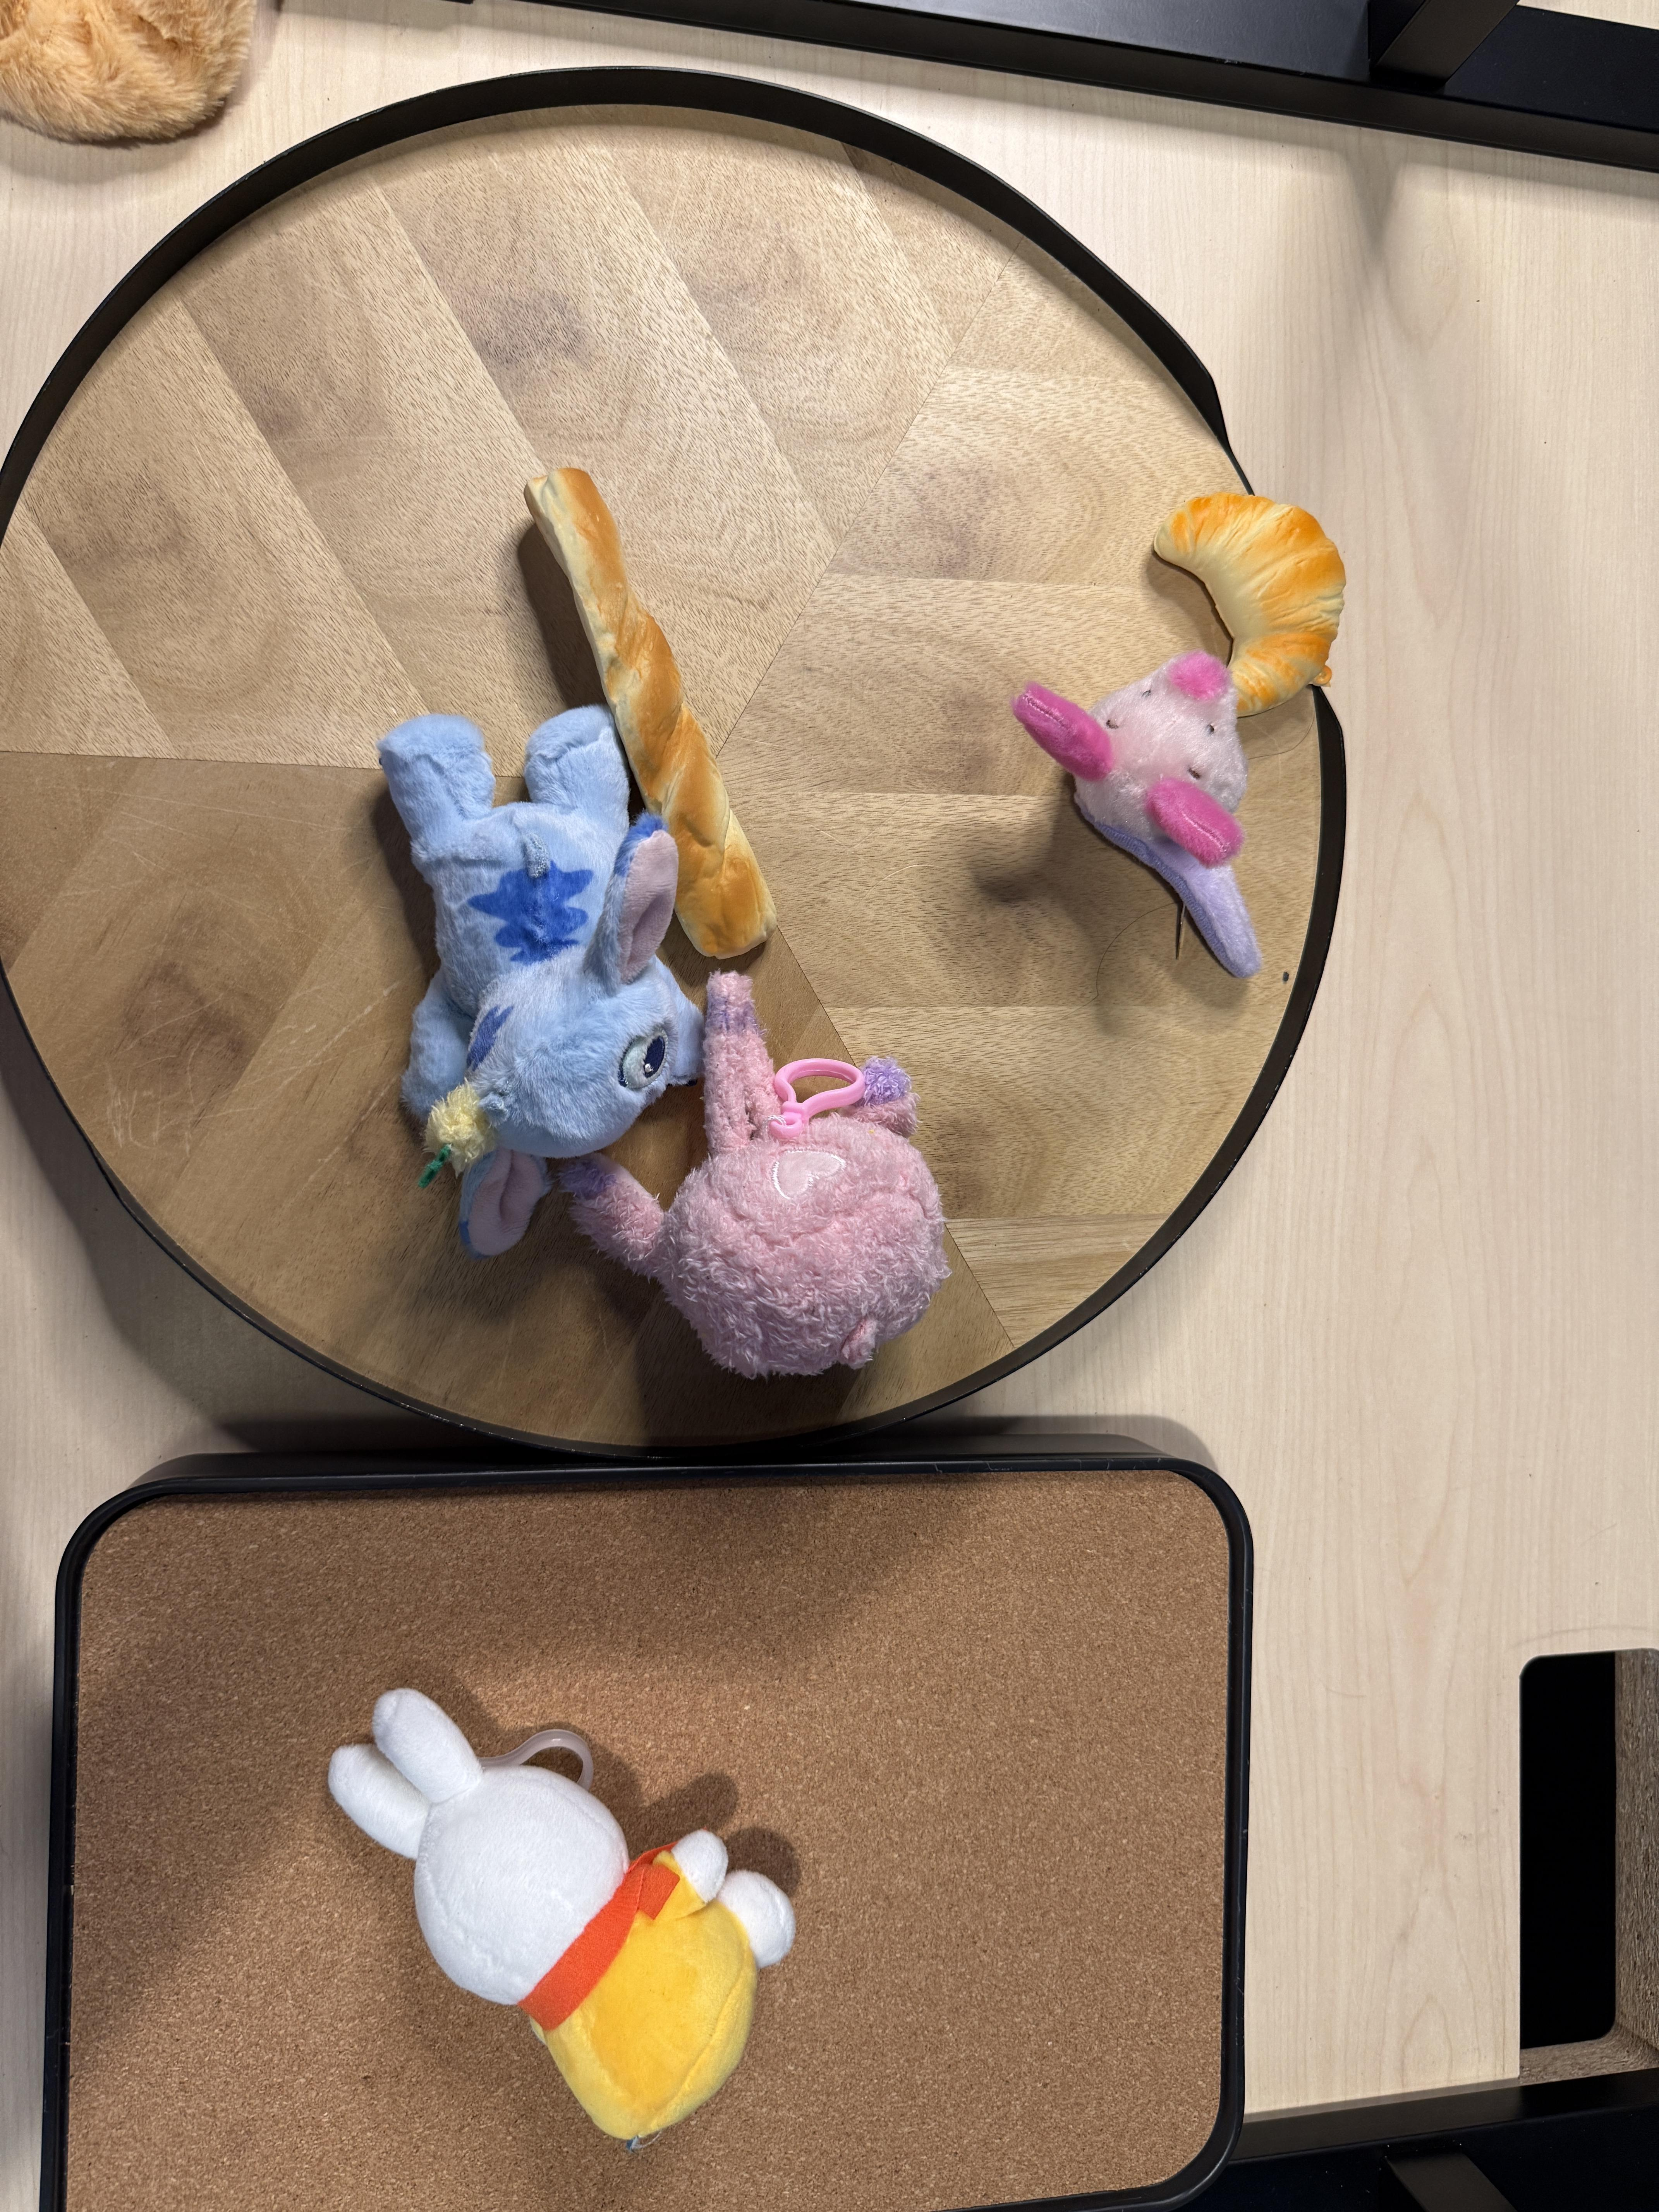bread: (526, 462, 777, 958), (1154, 484, 1347, 714)
doll: (329, 1681, 803, 2139), (371, 705, 713, 1252), (570, 965, 953, 1390), (1014, 643, 1297, 970), (3, 3, 263, 145)
